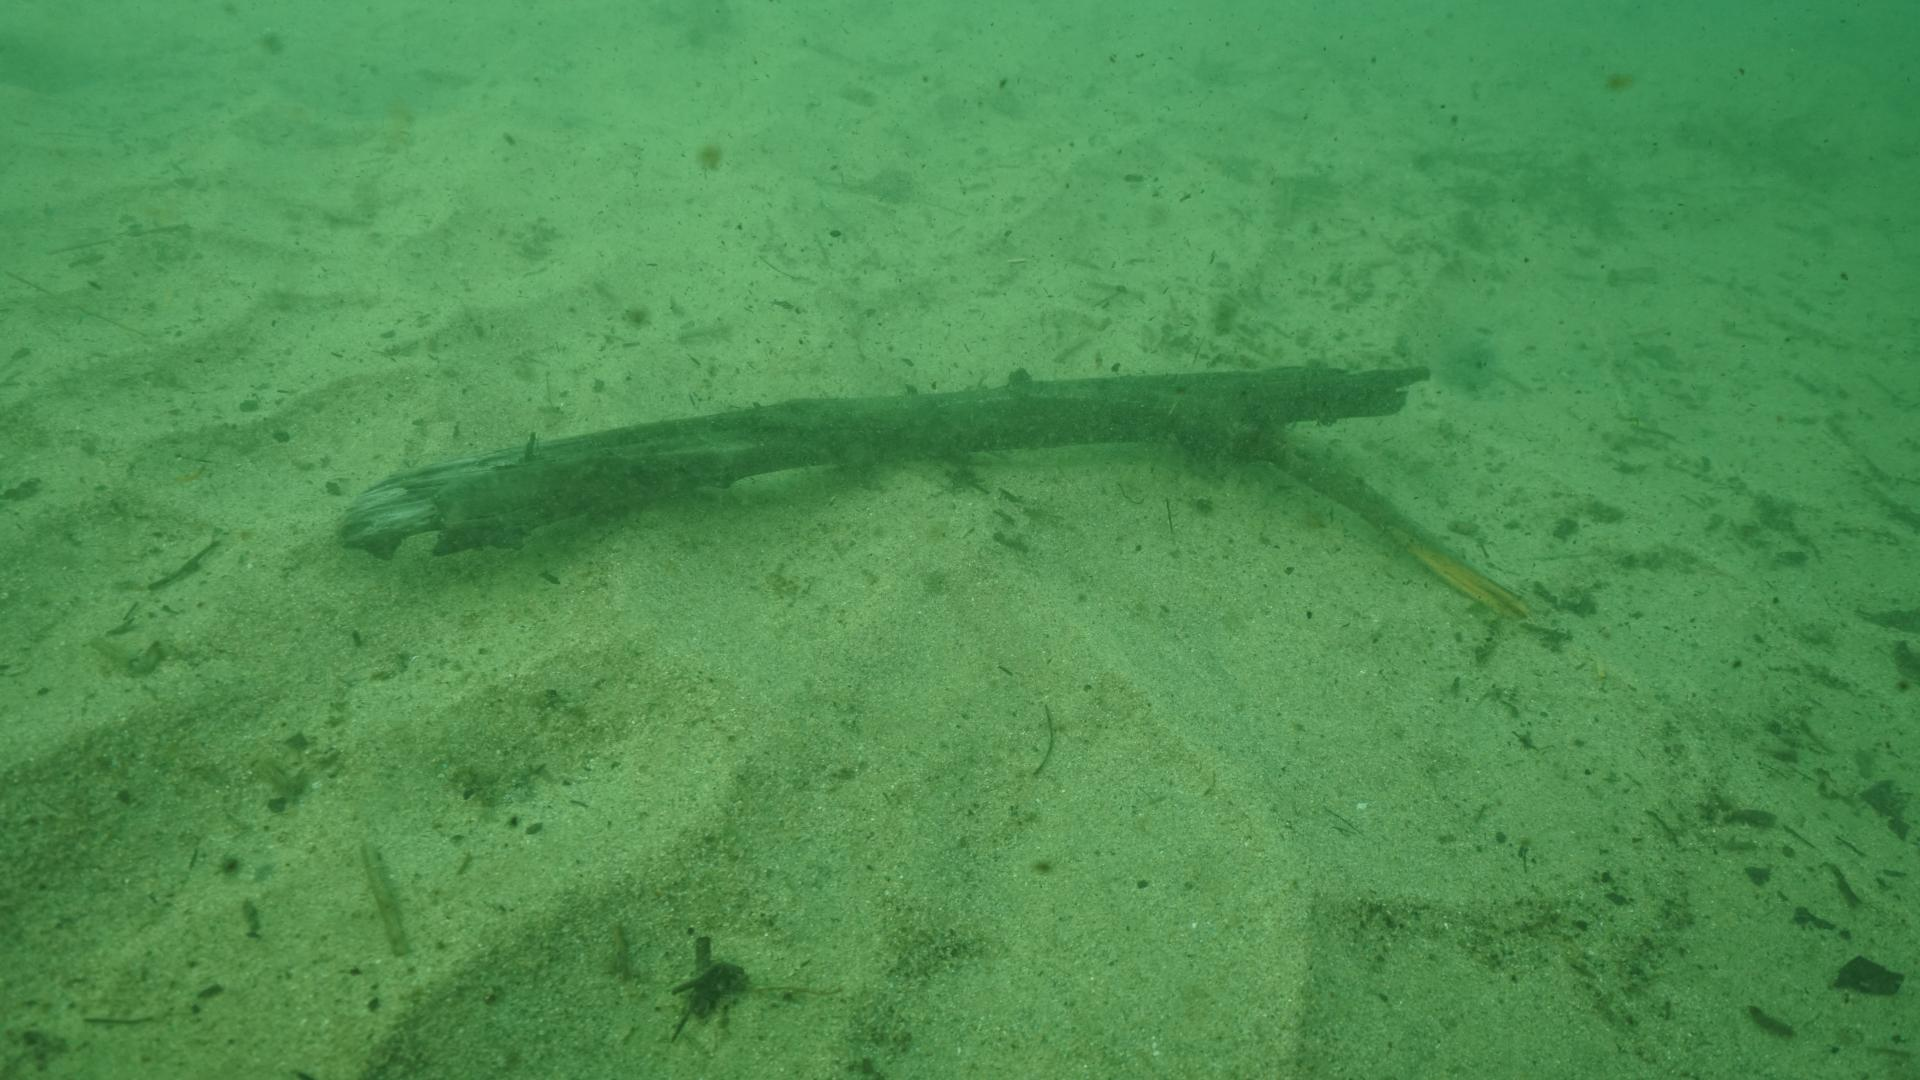wood: (330, 365, 1538, 622)
